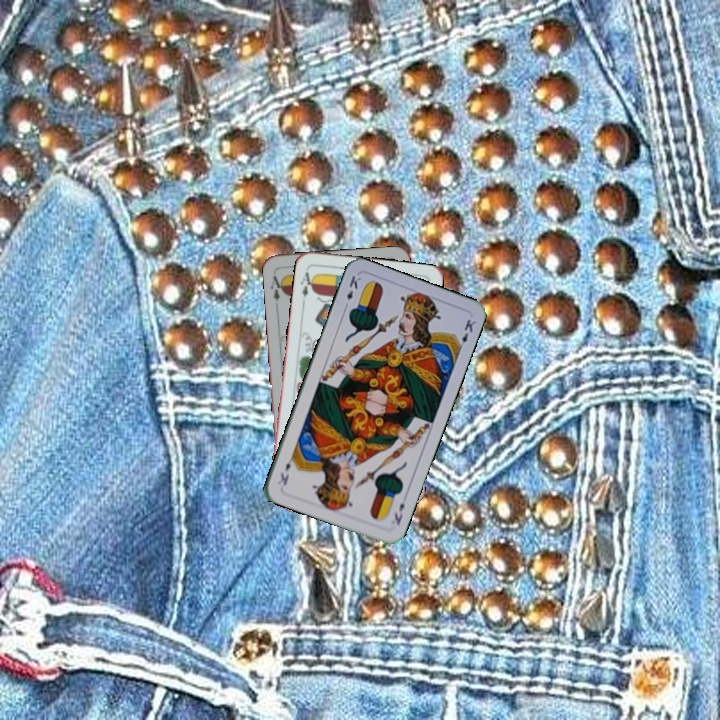EA: (296, 265, 317, 305), (267, 272, 287, 303)
EK: (341, 271, 363, 311), (390, 499, 407, 528)
